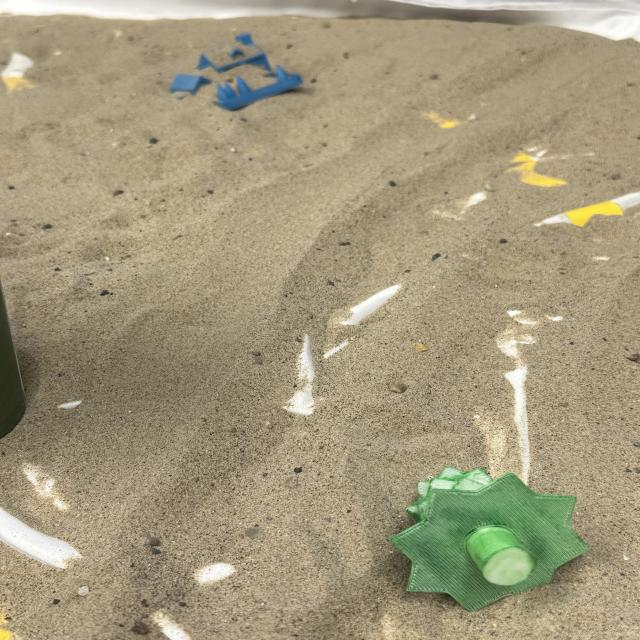house: (172, 33, 302, 109)
tree: (388, 465, 590, 612)
